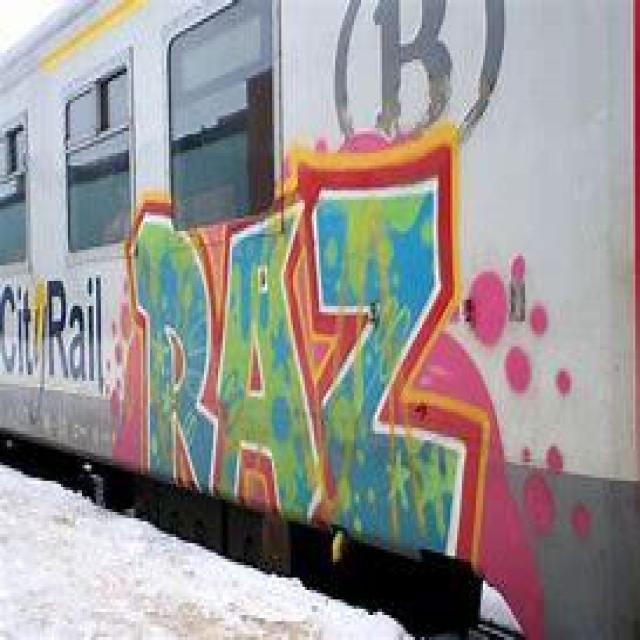nonspitting: (112, 122, 598, 570)
